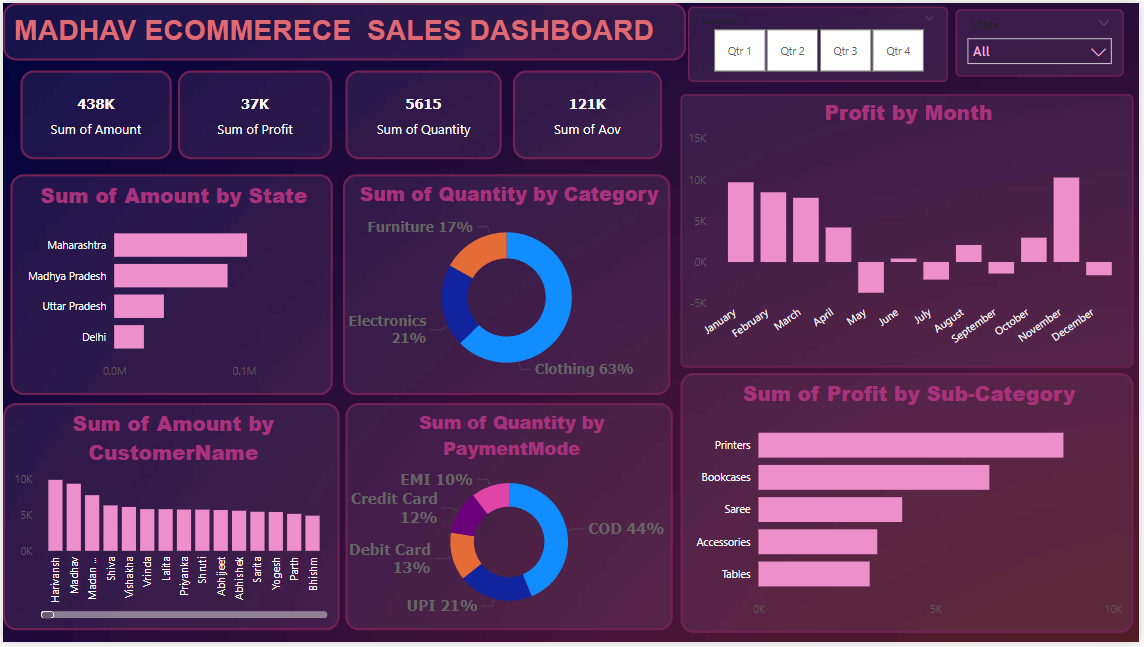

Layout of this report page (visuals, bound fields, positions):
{"tool":"powerbi","page":{"name":"Page 1","canvas":[1280,720],"ordinal":0},"visuals":[{"type":"textbox","box":[0,0,769.7,65.1],"z":0},{"type":"columnChart","title":" Profit by Month","fields":{"Category":["Orders.Order Date.Variation.Date Hierarchy.Month"],"Y":["Details.Profit","Details.Profit"]},"box":[763.7,102.5,510.3,307.6],"z":1000},{"type":"barChart","fields":{"Category":["Details.Sub-Category"],"Y":["Details.Profit"]},"box":[763.7,417.4,510.3,293.2],"z":2000},{"type":"donutChart","fields":{"Category":["Details.Category"],"Y":["Details.Quantity"]},"box":[382.4,193,369.2,248.5],"z":3000},{"type":"donutChart","fields":{"Y":["Details.Quantity"],"Category":["Details.PaymentMode"]},"box":[386.1,451.2,369.2,255.8],"z":4000},{"type":"card","fields":{"Values":["Details.Amount"]},"box":[19.3,76,170.1,100.1],"z":5000},{"type":"card","fields":{"Values":["Details.Quantity"]},"box":[386.1,76,176.1,100.1],"z":6000},{"type":"card","fields":{"Values":["Details.Profit"]},"box":[197.9,76,173.7,100.1],"z":7000},{"type":"card","fields":{"Values":["Details.Aov"]},"box":[574.3,76,167.7,100.1],"z":8000},{"type":"barChart","fields":{"Category":["Orders.State"],"Y":["Details.Amount"]},"box":[8.4,193,363.1,248.5],"z":9000},{"type":"columnChart","fields":{"Category":["Orders.CustomerName"],"Y":["Details.Amount"]},"box":[0,451.2,378.8,255.8],"z":10000},{"type":"slicer","fields":{"Values":["Orders.Order Date.Variation.Date Hierarchy.Quarter"]},"box":[772.1,3.6,293.2,84.5],"z":11000},{"type":"slicer","fields":{"Values":["Orders.State"]},"box":[1073.7,7.2,189.4,76],"z":12000}]}

Visuals, with their boxes in screenshot pixels (x1, y1, x2, y2), scaled from the page's 1280x720 canvas onto the 1144x647 screenshot:
textbox: BBox(0, 0, 688, 58)
" Profit by Month" columnChart: BBox(683, 92, 1139, 369)
barChart - Details.Sub-Category x Details.Profit: BBox(683, 375, 1139, 639)
donutChart - Details.Category x Details.Quantity: BBox(342, 173, 672, 397)
donutChart - Details.Quantity x Details.PaymentMode: BBox(345, 405, 675, 635)
card - Details.Amount: BBox(17, 68, 169, 158)
card - Details.Quantity: BBox(345, 68, 502, 158)
card - Details.Profit: BBox(177, 68, 332, 158)
card - Details.Aov: BBox(513, 68, 663, 158)
barChart - Orders.State x Details.Amount: BBox(8, 173, 332, 397)
columnChart - Orders.CustomerName x Details.Amount: BBox(0, 405, 339, 635)
slicer - Orders.Order Date.Variation.Date Hierarchy.Quarter: BBox(690, 3, 952, 79)
slicer - Orders.State: BBox(960, 6, 1129, 75)
